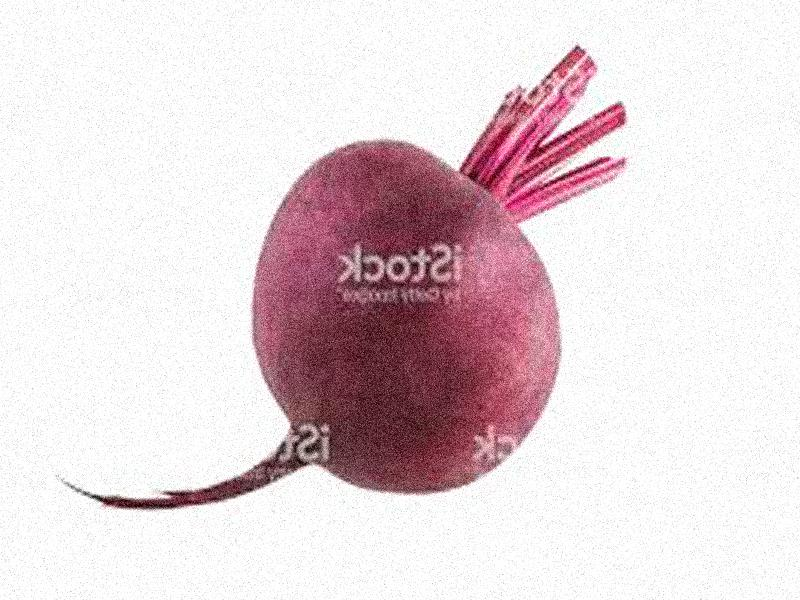Beet: (57, 46, 627, 505)
